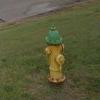Hydrant: (34, 16, 80, 85)
